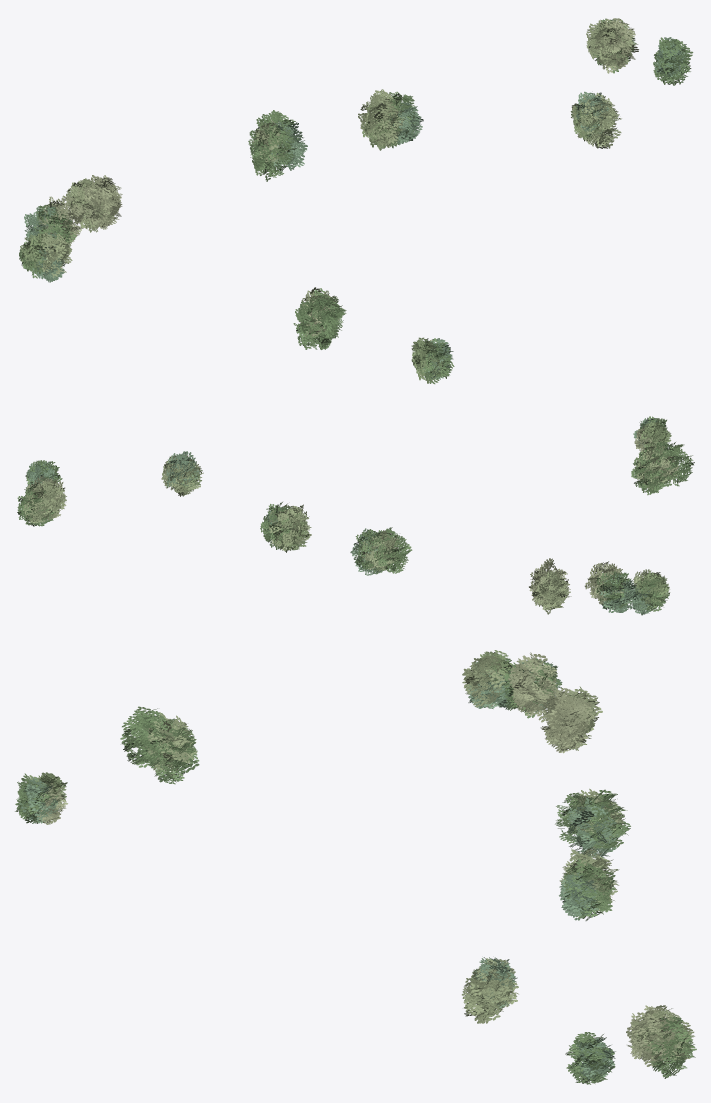
File: campus-tree-5_-1-near.glb
3 views of the same model, one above another, from view 1: azimuth 30°, elevation 25°; view 2: azimuth 150°, elevation 25°; view 3: azimuth 270°, elevation 25° (orthographic). The views are drawn at different scales.
Visible parts, largest first — view 1: Campus leaf canopy; view 2: Campus leaf canopy; view 3: Campus leaf canopy.
Boxes of the visible parts, x1=… form: Campus leaf canopy: x1=19, y1=18, x2=693, y2=384; Campus leaf canopy: x1=17, y1=416, x2=694, y2=615; Campus leaf canopy: x1=15, y1=650, x2=696, y2=1084.
Bounding box in the file's own units: 73.8 × 7.34 × 52.98.
Materials: 1 (1 with a texture image).
